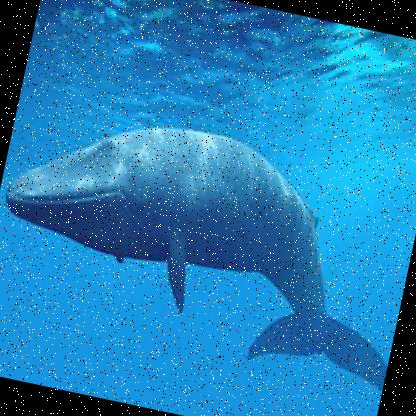blue_whale: (0, 85, 415, 415)
